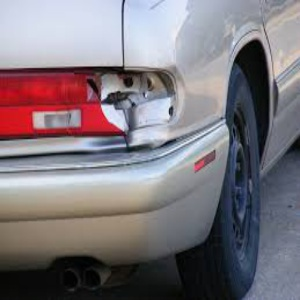tail_lights: (1, 62, 183, 131)
